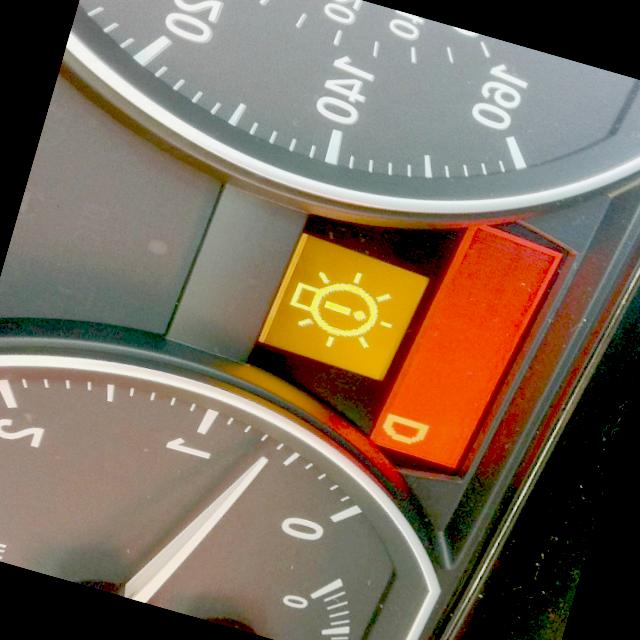kontrolka: (264, 245, 416, 376)
